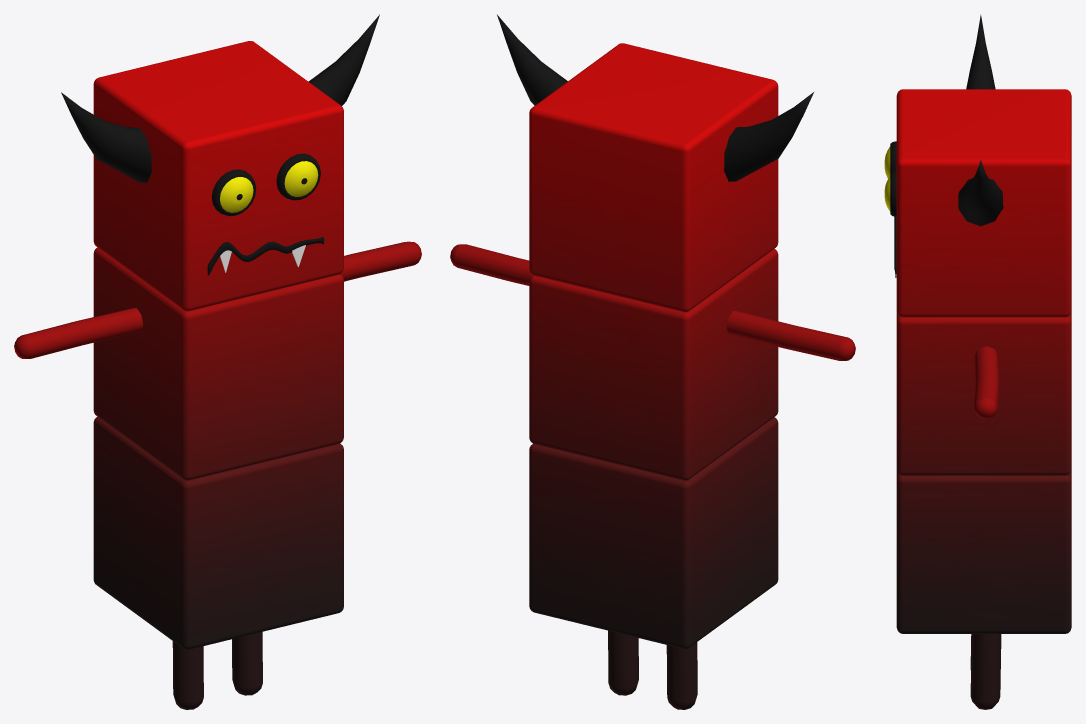
The model's file is mons3.fbx.
3 renders of one model, left to right at view 1: azimuth 30°, elevation 25°; view 2: azimuth 150°, elevation 25°; view 3: azimuth 270°, elevation 25°, orthographic. The views are drawn at different scales.
Parts seen in each view (by area): view 1: mons3; view 2: mons3; view 3: mons3.
Part boxes in pixels (x1,y1,x2,y2): mons3: [14, 14, 421, 709]; mons3: [450, 14, 855, 709]; mons3: [884, 14, 1071, 709].
Bounding box in the file's own units: 249 × 384 × 107.
1 material, 1 textured.
